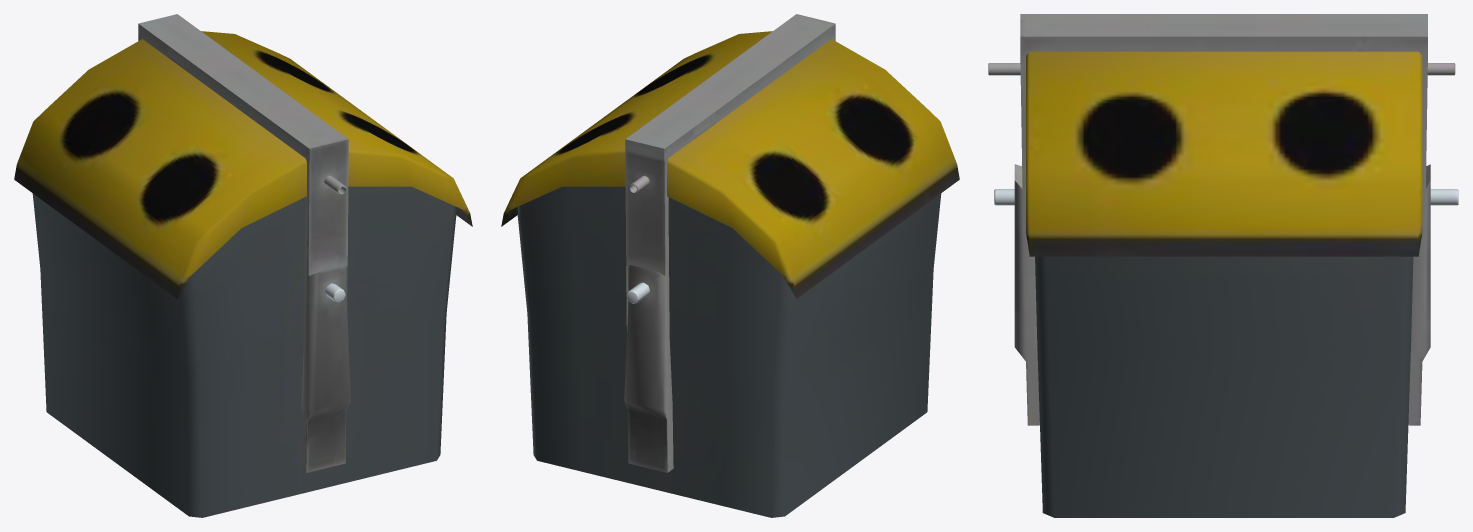
File: bell_y.glb
The picture shows the model from 3 angles, left to right: view 1: azimuth 30°, elevation 25°; view 2: azimuth 150°, elevation 25°; view 3: azimuth 270°, elevation 25°; orthographic projection. The views are drawn at different scales.
Parts seen in each view (by area): view 1: bell_y; view 2: bell_y; view 3: bell_y.
Boxes of the visible parts, box(x1,y1,x2,y2) form: bell_y: box(14, 14, 472, 517); bell_y: box(501, 14, 959, 517); bell_y: box(988, 14, 1458, 517).
Size of the model in its own units: 1.4 by 1.6 by 1.63.
1 material, 1 textured.
